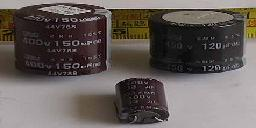Electrolytic-Capacitor: (10, 1, 117, 77), (147, 6, 252, 76), (113, 77, 176, 126)
